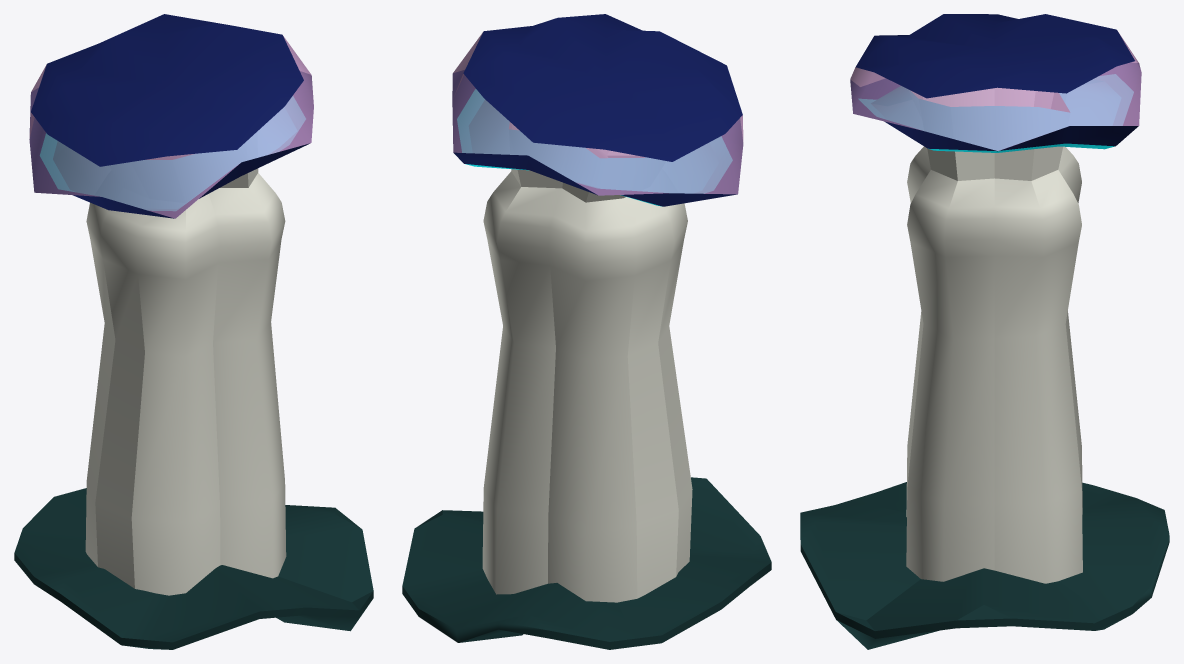
The model's file is Mushroom5.fbx.
3 views of the same model, side by side, from view 1: azimuth 30°, elevation 25°; view 2: azimuth 150°, elevation 25°; view 3: azimuth 270°, elevation 25° (orthographic). The views are drawn at different scales.
Parts seen in each view (by area): view 1: big_flat_mushroom_geo, water_patel_geo; view 2: big_flat_mushroom_geo, water_patel_geo; view 3: big_flat_mushroom_geo, water_patel_geo.
Part boxes in pixels (x1=…): big_flat_mushroom_geo: x1=29, y1=14, x2=313, y2=595; water_patel_geo: x1=14, y1=488, x2=373, y2=649; big_flat_mushroom_geo: x1=452, y1=14, x2=743, y2=602; water_patel_geo: x1=402, y1=477, x2=771, y2=649; big_flat_mushroom_geo: x1=850, y1=14, x2=1141, y2=583; water_patel_geo: x1=800, y1=482, x2=1169, y2=649.
Size of the model in its own units: 7.54 by 13.01 by 7.71.
